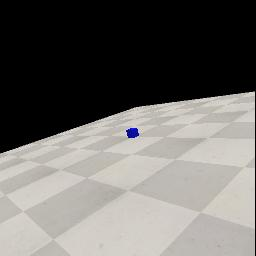box: (126, 128, 139, 138)
